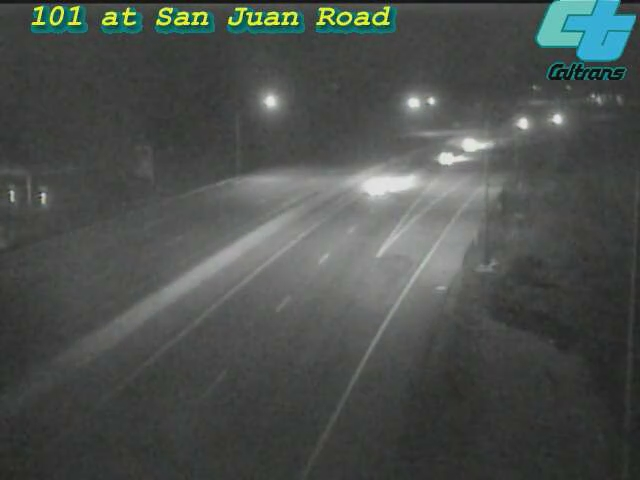vehicle: (338, 146, 418, 226), (498, 98, 548, 148), (530, 94, 580, 144), (445, 119, 495, 169), (420, 132, 470, 182)
